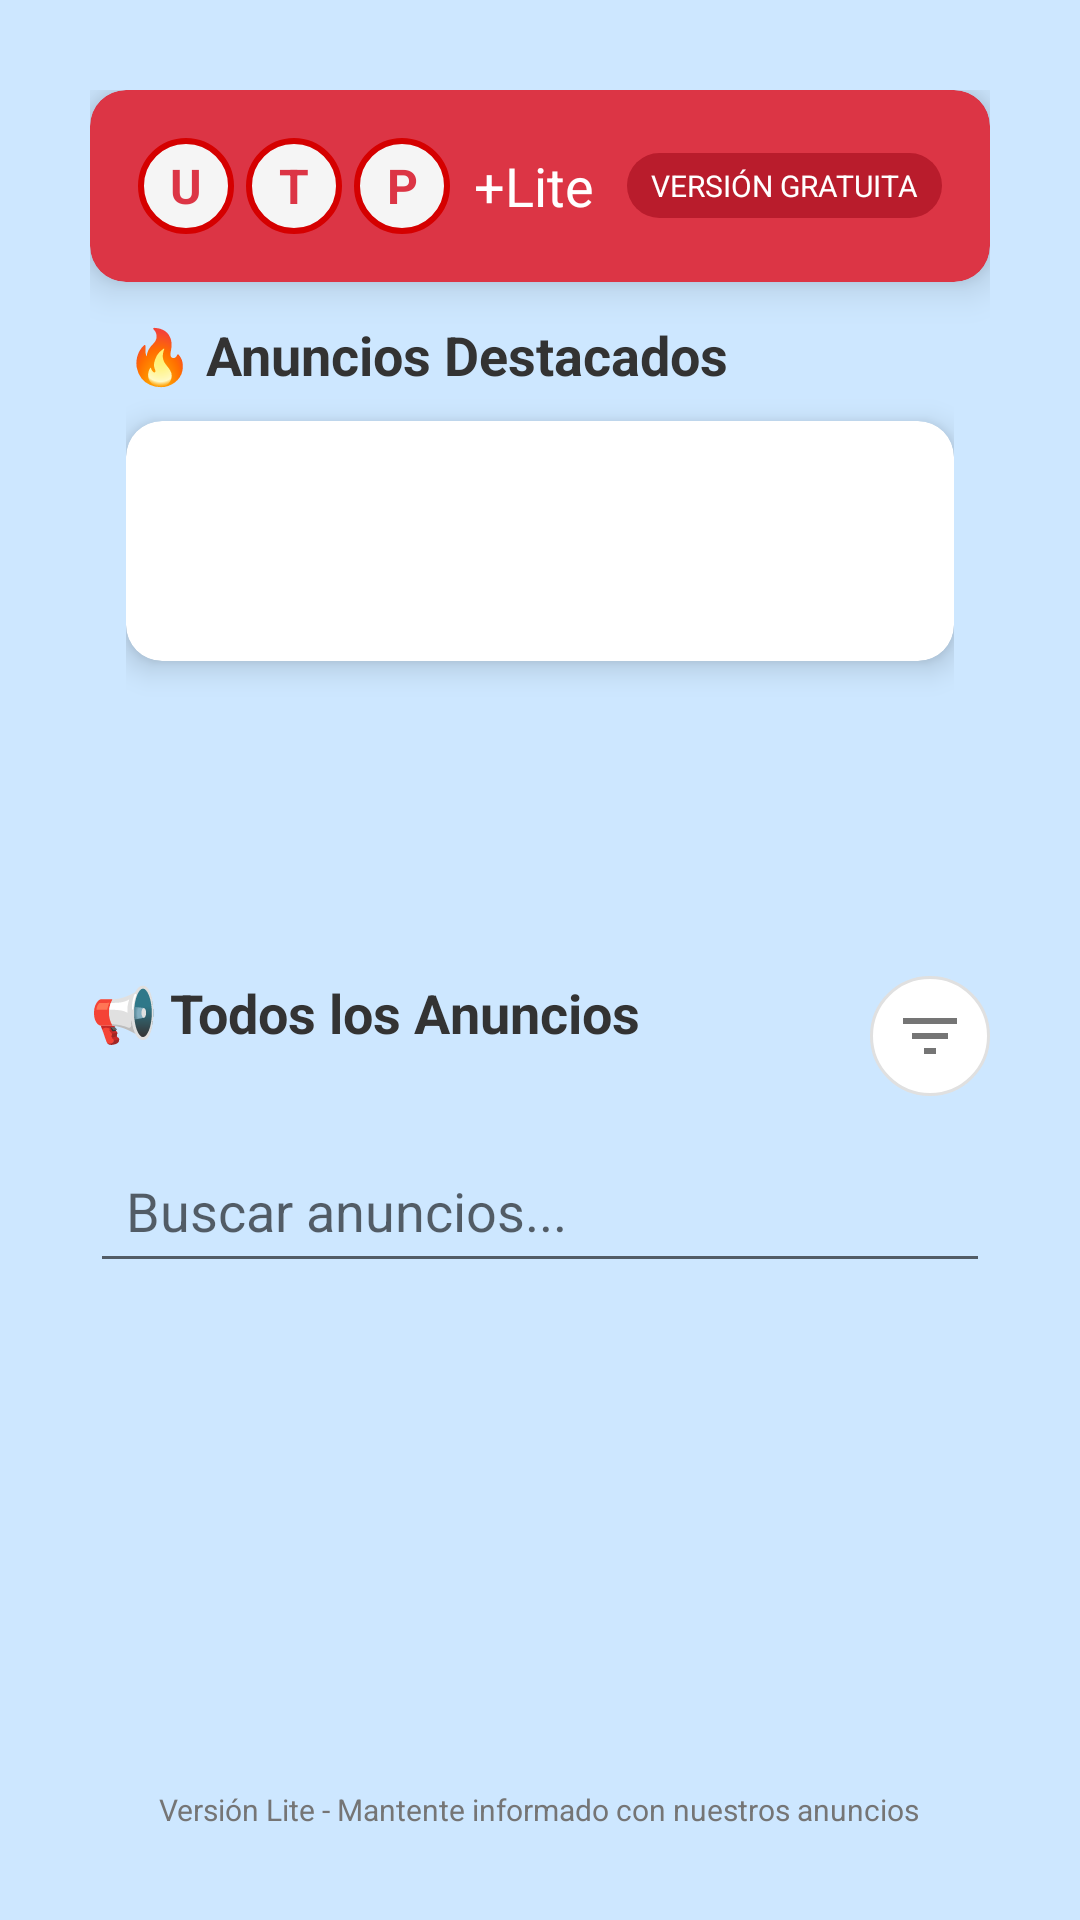

Point at icon controls on the screen. Image size 1080 × 1920, points as point (x, y).
Filtrar anuncios: point (930, 1036)
